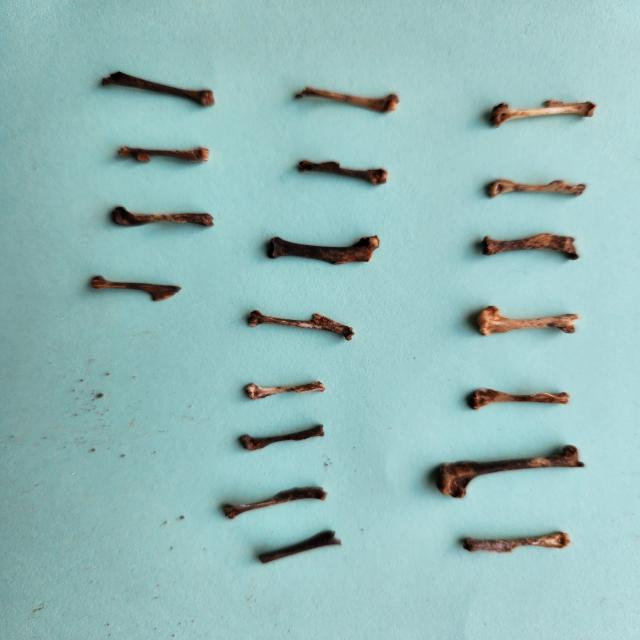fossil: (426, 441, 594, 502), (474, 85, 614, 136), (96, 62, 224, 115), (257, 226, 387, 275), (462, 299, 592, 344), (448, 526, 597, 562), (214, 480, 338, 522), (102, 196, 224, 238), (290, 78, 408, 121), (478, 166, 601, 207), (470, 225, 592, 266), (455, 378, 583, 417), (240, 304, 365, 343), (107, 134, 225, 172), (287, 152, 398, 190), (248, 528, 351, 568), (84, 270, 198, 306), (233, 420, 339, 458), (236, 373, 332, 408)
